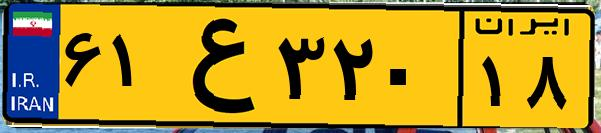0: (385, 28, 445, 110)
1: (475, 38, 525, 113), (110, 28, 158, 98)
2: (330, 28, 385, 110)
3: (270, 28, 330, 110)
6: (57, 26, 110, 100)
8: (525, 38, 570, 115)
ع: (158, 12, 270, 120)
